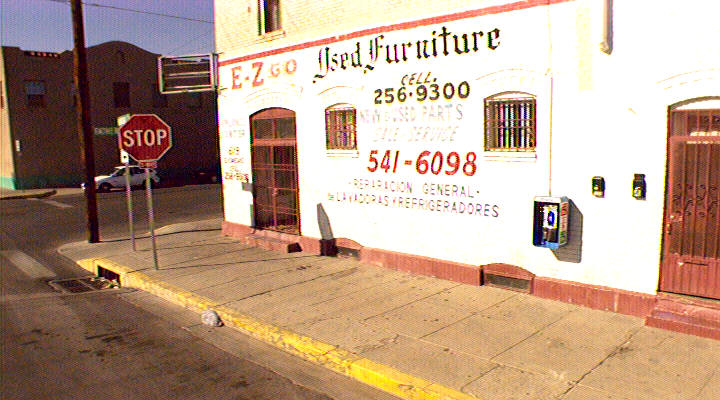Ramp: (55, 223, 208, 264)
